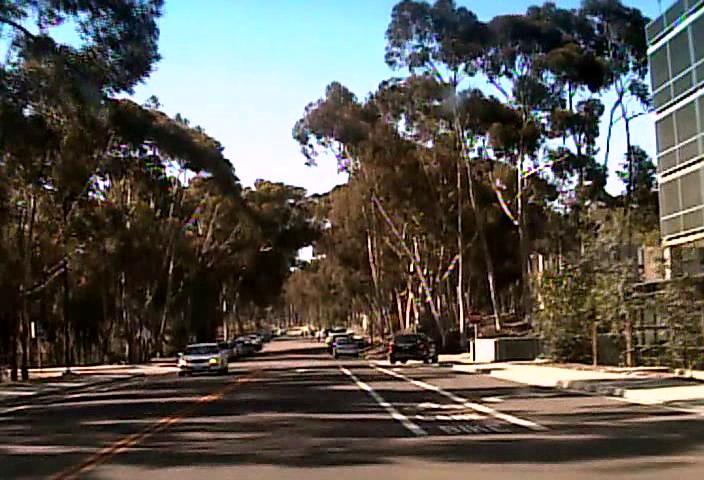stop: (467, 309, 483, 325)
